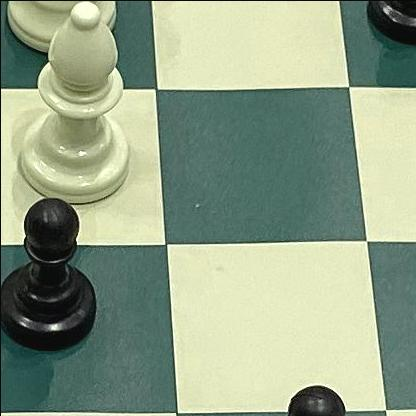black-pawn: (0, 187, 113, 355), (238, 370, 376, 416)
white-bishop: (8, 0, 142, 222)
white-rook: (0, 0, 130, 64)
